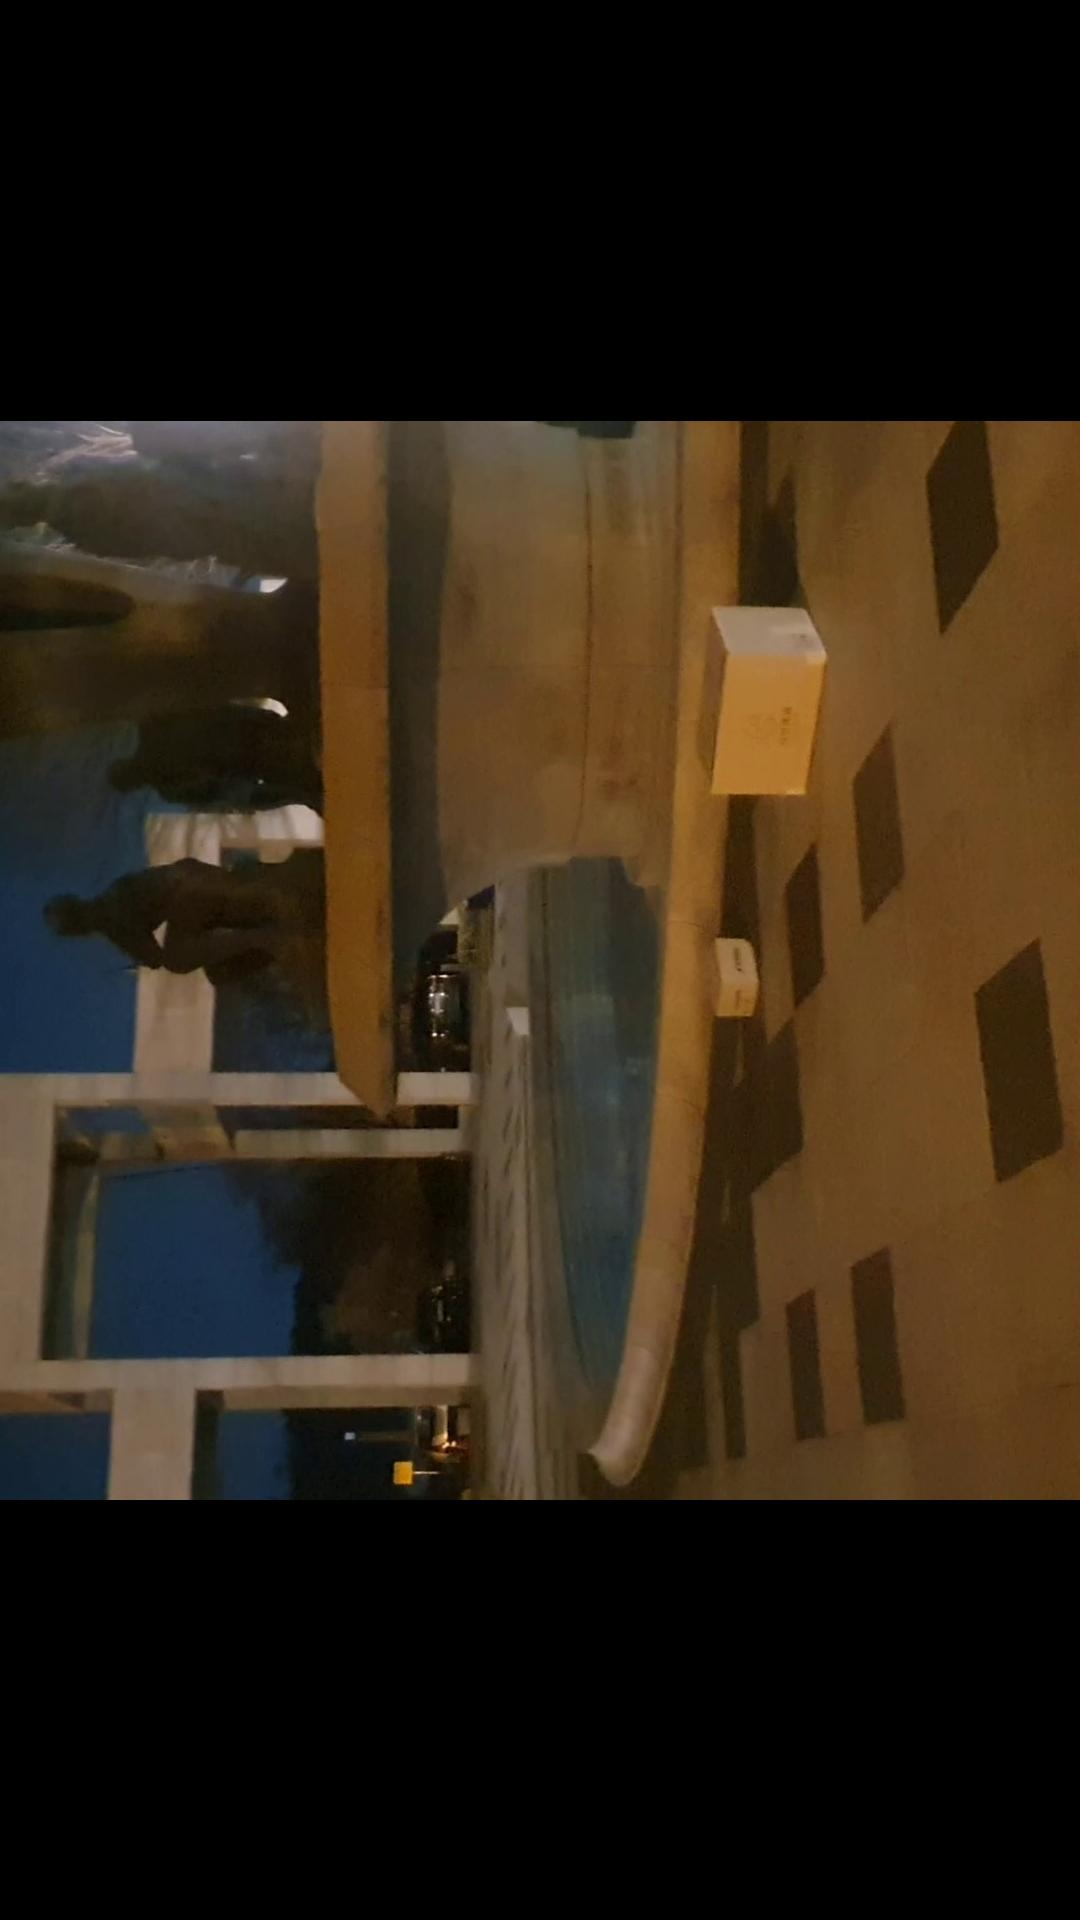Box: (680, 593, 851, 807), (695, 923, 770, 1058)
